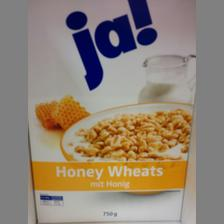Cerealien: (28, 0, 196, 224)
